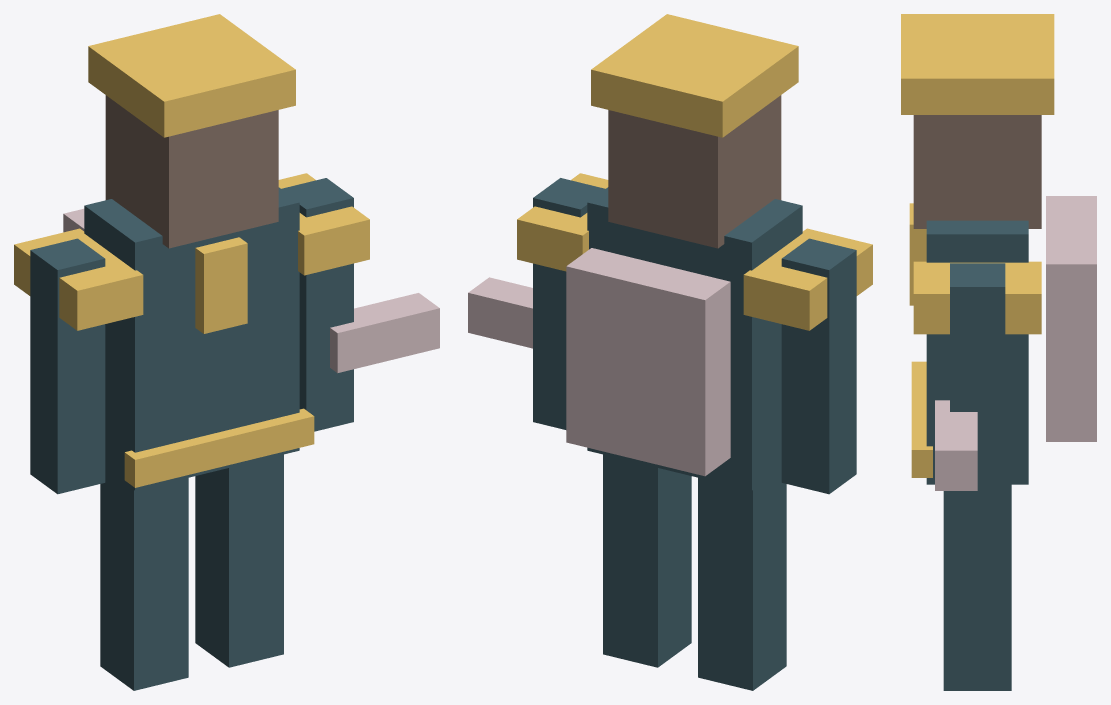
The model's file is 17_kael_voxmere_captain_under.glb.
3 renders of one model, left to right at view 1: azimuth 30°, elevation 25°; view 2: azimuth 150°, elevation 25°; view 3: azimuth 270°, elevation 25°, orthographic.
Parts seen in each view (by area): view 1: Kael Voxmere, Captain under; view 2: Kael Voxmere, Captain under; view 3: Kael Voxmere, Captain under.
Part boxes in pixels (<box>): Kael Voxmere, Captain under: <box>14,14,439,690</box>; Kael Voxmere, Captain under: <box>468,14,872,690</box>; Kael Voxmere, Captain under: <box>901,14,1096,690</box>.
Bounding box in the file's own units: 1.06 × 1.63 × 0.4758.
